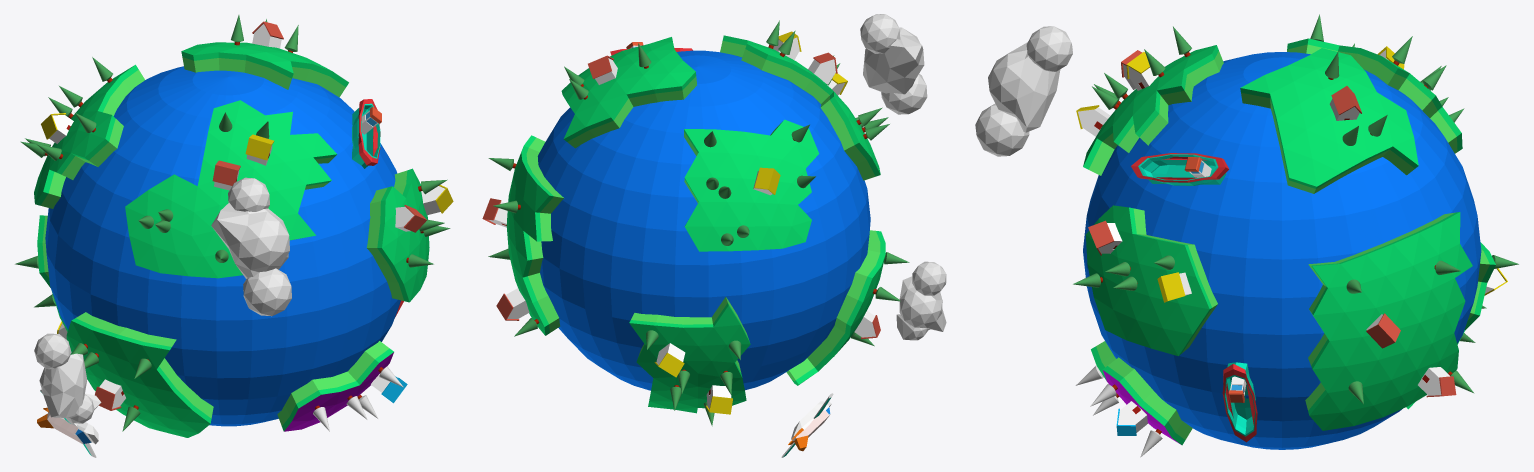
The model's file is 3dModel.glb.
3 views of the same model, side by side, from view 1: azimuth 30°, elevation 25°; view 2: azimuth 150°, elevation 25°; view 3: azimuth 270°, elevation 25° (orthographic). The views are drawn at different scales.
Parts seen in each view (by area): view 1: Sphere, Icosphere, Icosphere.001, Icosphere.004, Cube.002, Plain.001, Red House.002, Orange House.007, Orange House.004, Red House.003, Orange House.003, Red House.004 (+2 smaller); view 2: Sphere, Icosphere, Icosphere.001, Icosphere.004, Plain.001, Red House.006, Orange House.005, Orange House.006, Red House.004, Red House.001, Orange House.007, Red House.002 (+1 smaller); view 3: Sphere, Icosphere, Icosphere.001, Cube.002, Cube.004, Red House.006, White house.002, Red House.004, Red House.003, Orange House.004, Red House.005, Orange House.003 (+1 smaller).
Part boxes in pixels (<box>): Sphere: <box>45,66,400,426</box>; Icosphere: <box>34,42,429,437</box>; Icosphere.001: <box>211,177,291,316</box>; Icosphere.004: <box>34,333,101,423</box>; Cube.002: <box>352,99,380,168</box>; Plain.001: <box>37,389,98,457</box>; Red House.002: <box>95,379,125,410</box>; Orange House.007: <box>41,113,73,143</box>; Orange House.004: <box>421,185,453,215</box>; Red House.003: <box>395,205,426,232</box>; Orange House.003: <box>245,134,274,165</box>; Red House.004: <box>252,21,283,48</box>; Sphere: <box>537,50,870,390</box>; Icosphere: <box>506,35,885,413</box>; Icosphere.001: <box>860,14,927,114</box>; Icosphere.004: <box>896,261,946,340</box>; Plain.001: <box>781,393,833,457</box>; Red House.006: <box>496,288,529,320</box>; Orange House.005: <box>654,343,685,377</box>; Orange House.006: <box>705,385,732,414</box>; Red House.004: <box>588,55,617,84</box>; Red House.001: <box>808,52,837,84</box>; Orange House.007: <box>753,167,780,195</box>; Red House.002: <box>854,311,880,339</box>; Sphere: <box>1083,52,1481,449</box>; Icosphere: <box>1083,38,1495,445</box>; Icosphere.001: <box>975,26,1072,156</box>; Cube.002: <box>1131,153,1229,185</box>; Cube.004: <box>1222,362,1257,442</box>; Red House.006: <box>1418,367,1456,397</box>; White house.002: <box>1116,401,1147,435</box>; Red House.004: <box>1329,86,1361,120</box>; Red House.003: <box>1088,220,1122,255</box>; Orange House.004: <box>1157,272,1191,302</box>; Red House.005: <box>1366,313,1400,348</box>; Orange House.003: <box>1126,52,1158,90</box>.
Bounding box in the file's own units: 5.74 × 5.37 × 6.06.
